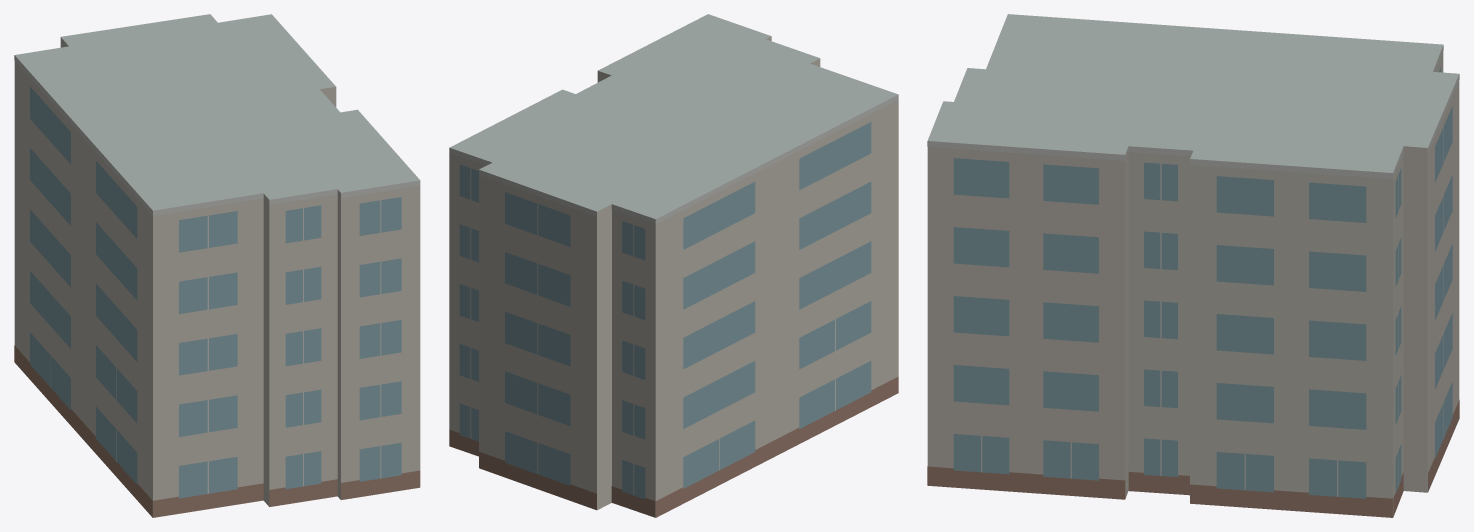
File: survey-upis-32657396.glb
3 views of the same model, side by side, from view 1: azimuth 30°, elevation 25°; view 2: azimuth 150°, elevation 25°; view 3: azimuth 270°, elevation 25° (orthographic). The views are drawn at different scales.
Visible parts, largest first — view 1: survey-upis-32657396.tmp; view 2: survey-upis-32657396.tmp; view 3: survey-upis-32657396.tmp.
Part boxes in pixels (x1,y1,x2,y2): survey-upis-32657396.tmp: [14, 14, 420, 517]; survey-upis-32657396.tmp: [449, 14, 898, 517]; survey-upis-32657396.tmp: [927, 14, 1459, 517].
Bounding box in the file's own units: 14.06 × 14.2 × 19.87.
